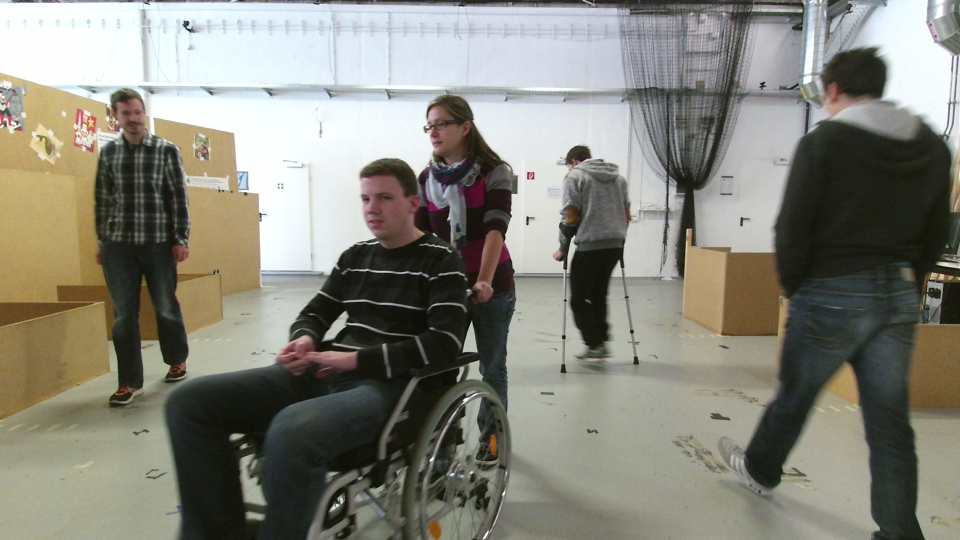crutches: (553, 142, 647, 377)
